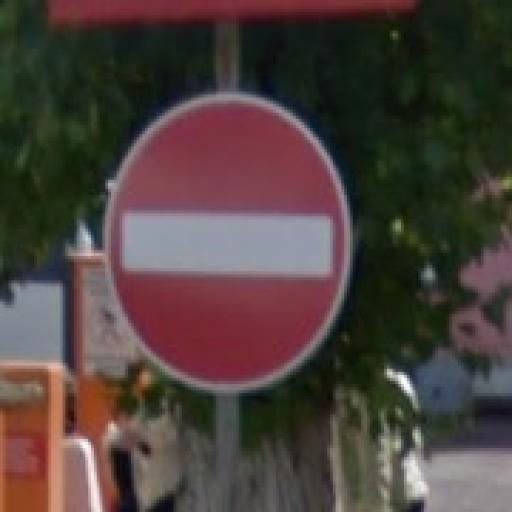traffic_sign: (106, 90, 354, 398)
